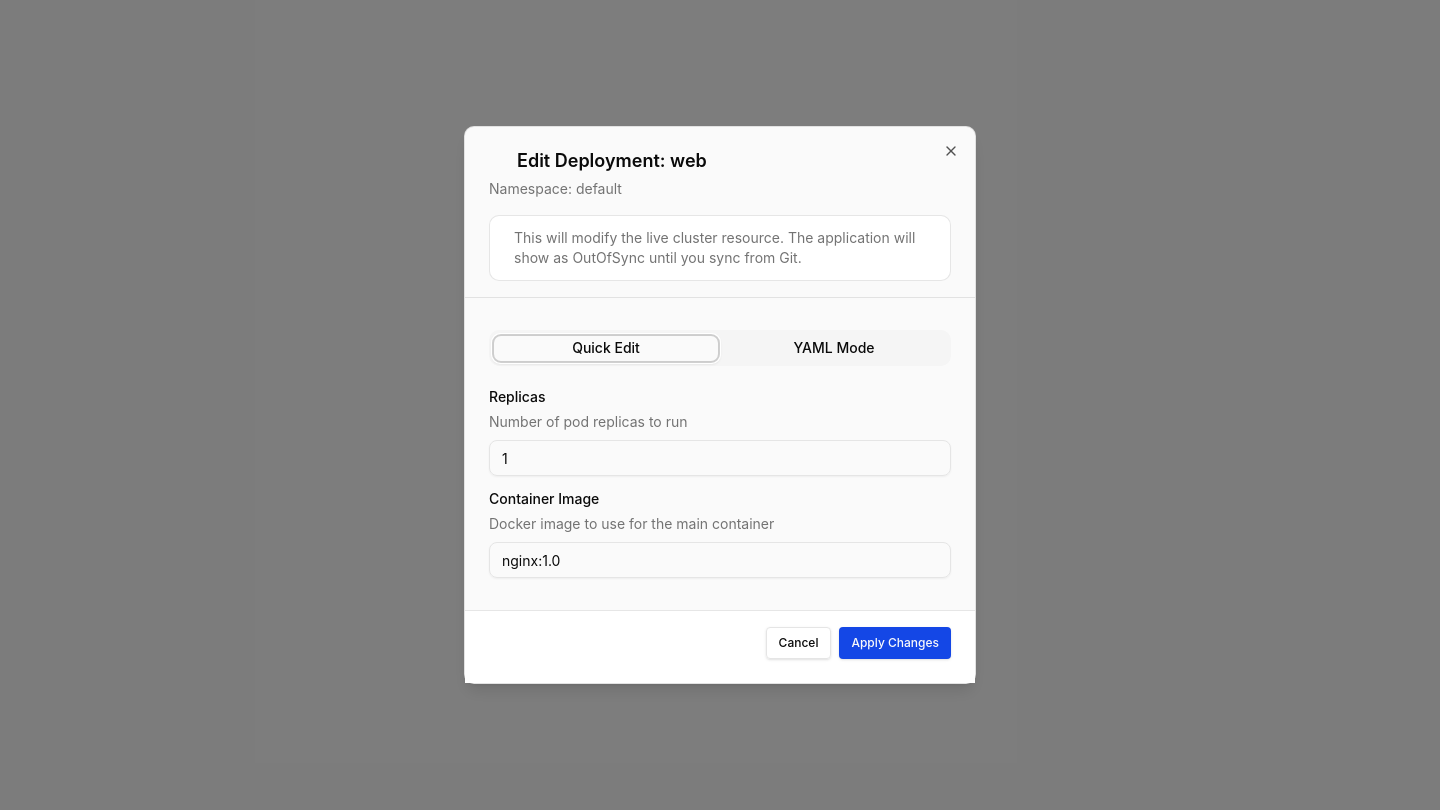
ResourceEditModal safety confirmation › shows invalid YAML without entering confirmation
Click the tab "YAML Mode" at coordinates (834, 348), box [720,334,948,362]
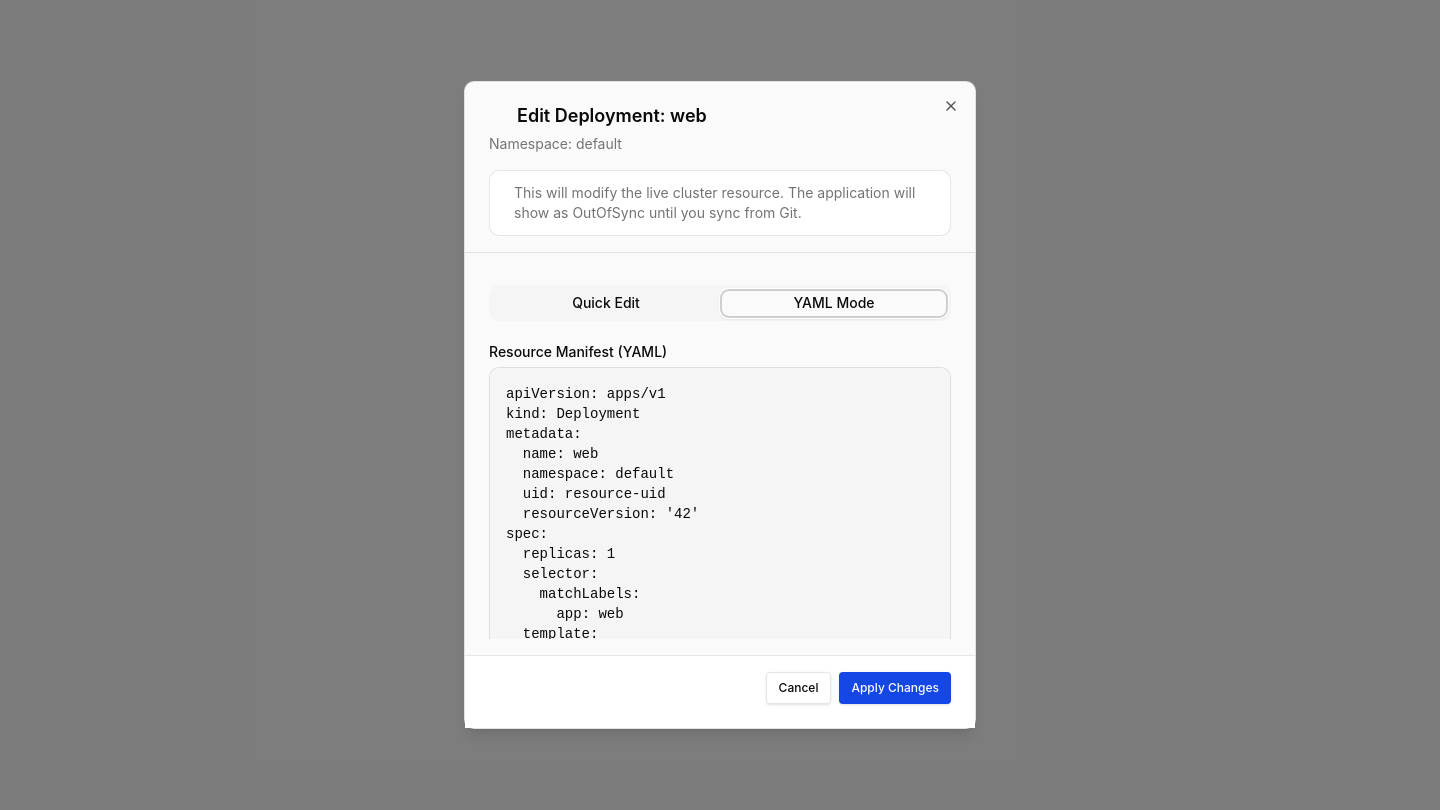
Replace the text in the text box labelled "Resource Manifest (YAML)" with "kind: [invalid" at coordinates (720, 559), box [489,367,951,751]
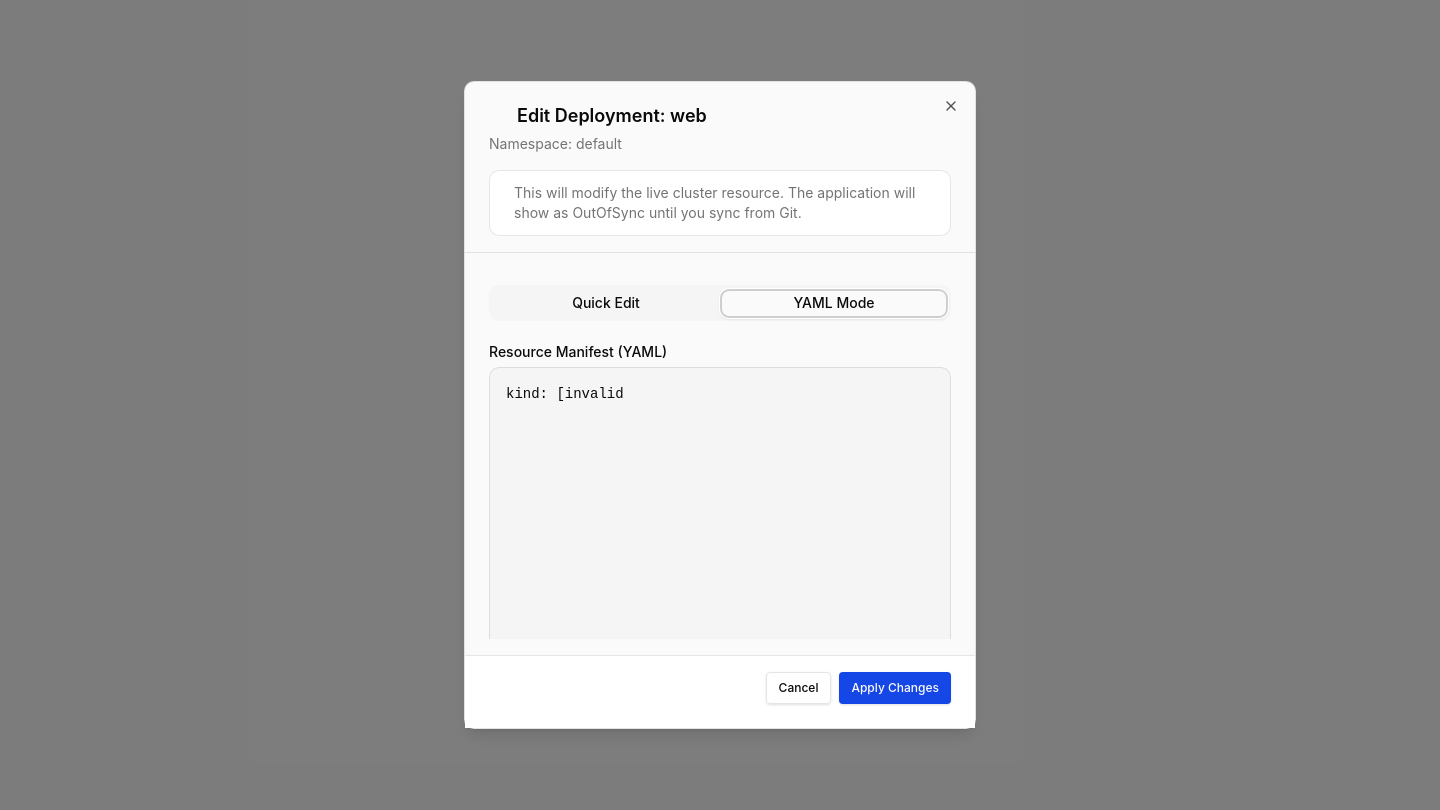
Click the button "Apply Changes" at coordinates (895, 688), box [839,672,951,704]
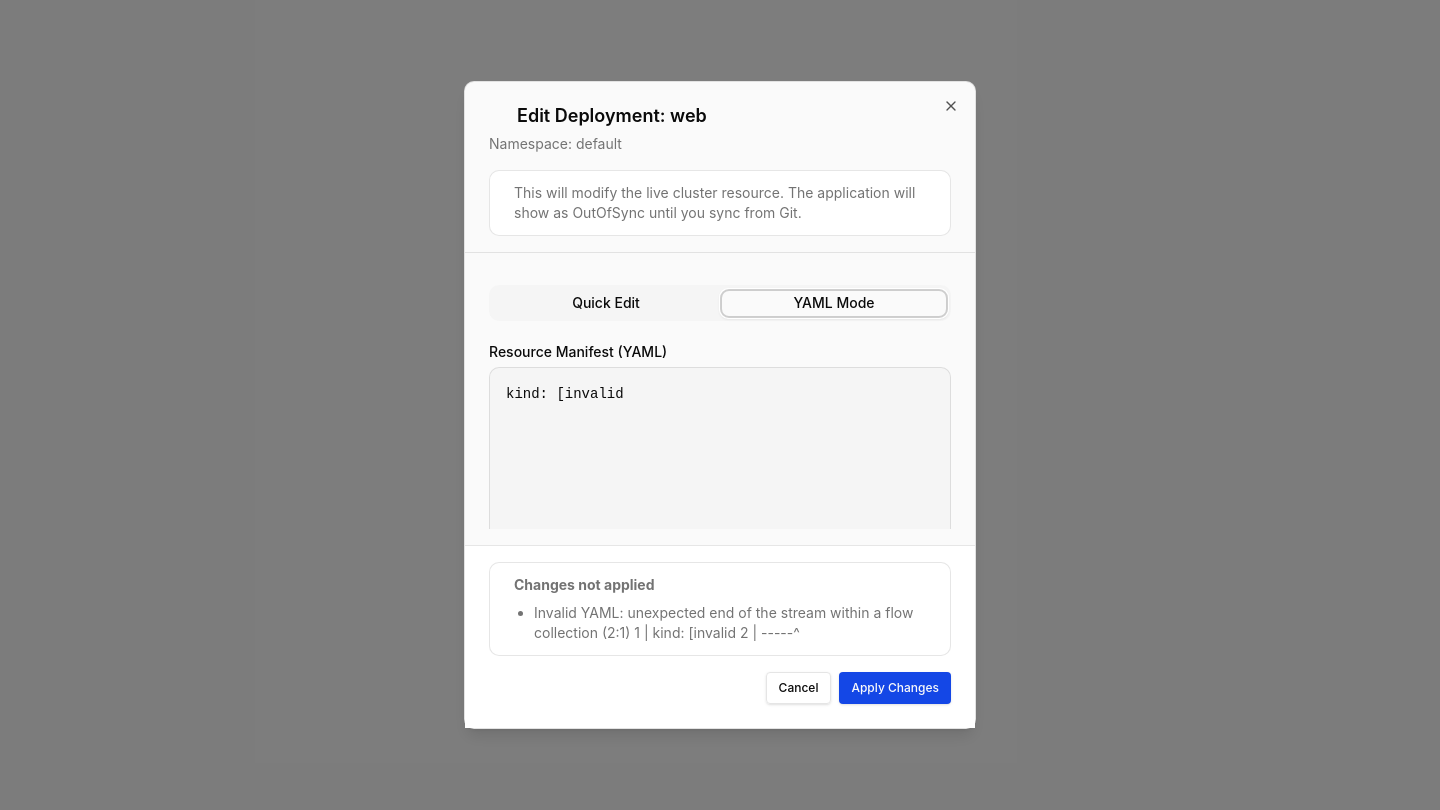
Expected: the list item "Invalid YAML:" is shown, [534,604,913,641]
